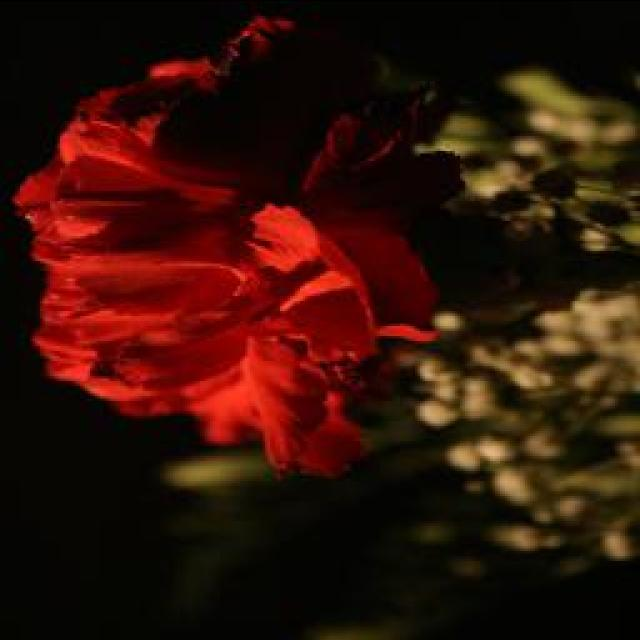carnation: (0, 1, 487, 454)
